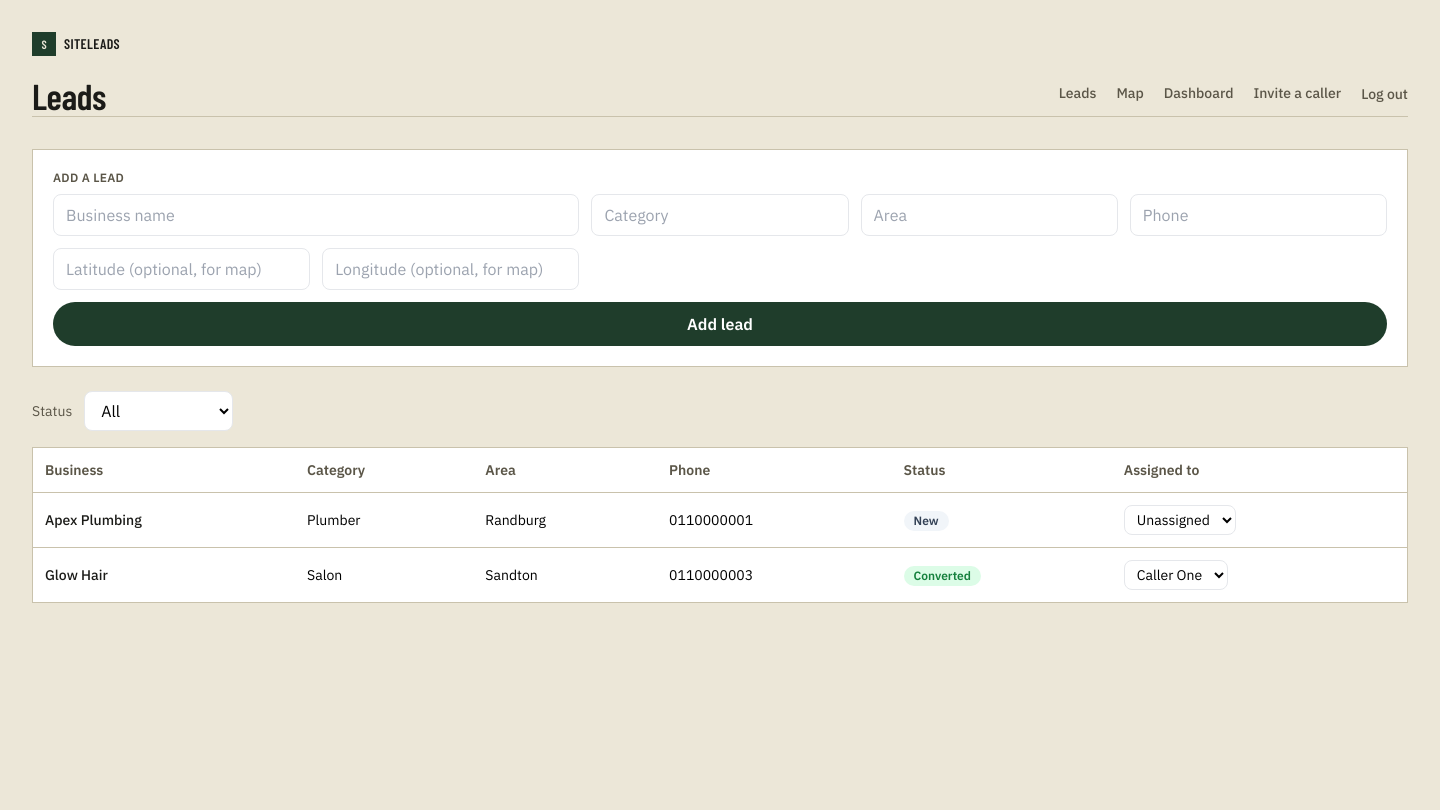
Scenario: LeadListScreen › shows an error if assigning fails
expect the text "Apex Plumbing" is shown: met, box [33,492,295,548]
Select "Caller One" in the dropdown named "Assign Apex Plumbing". click: (1180, 520)
box: [1124,505,1236,535]
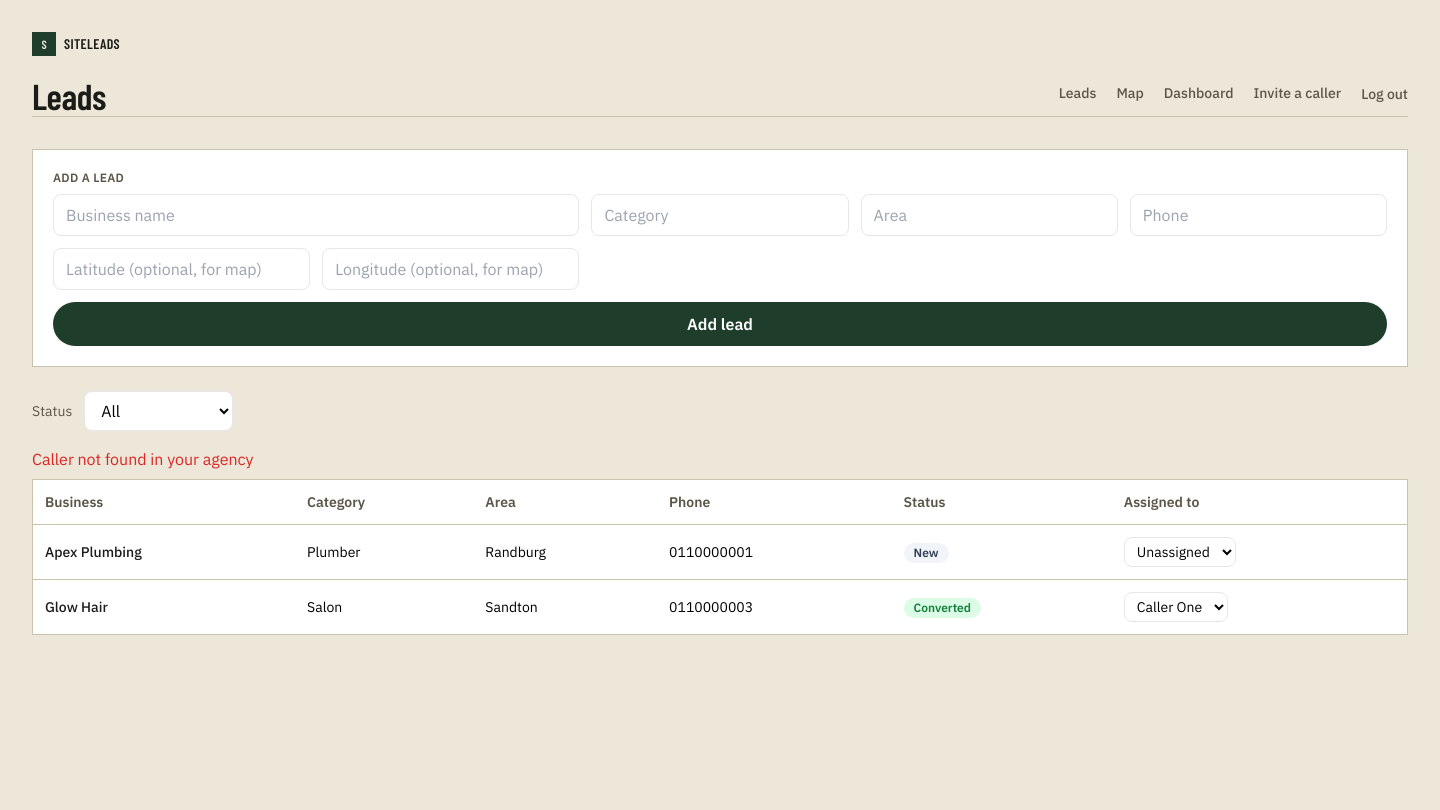
expect the text "Caller not found in your agency" is shown: met, box [32,449,254,469]
